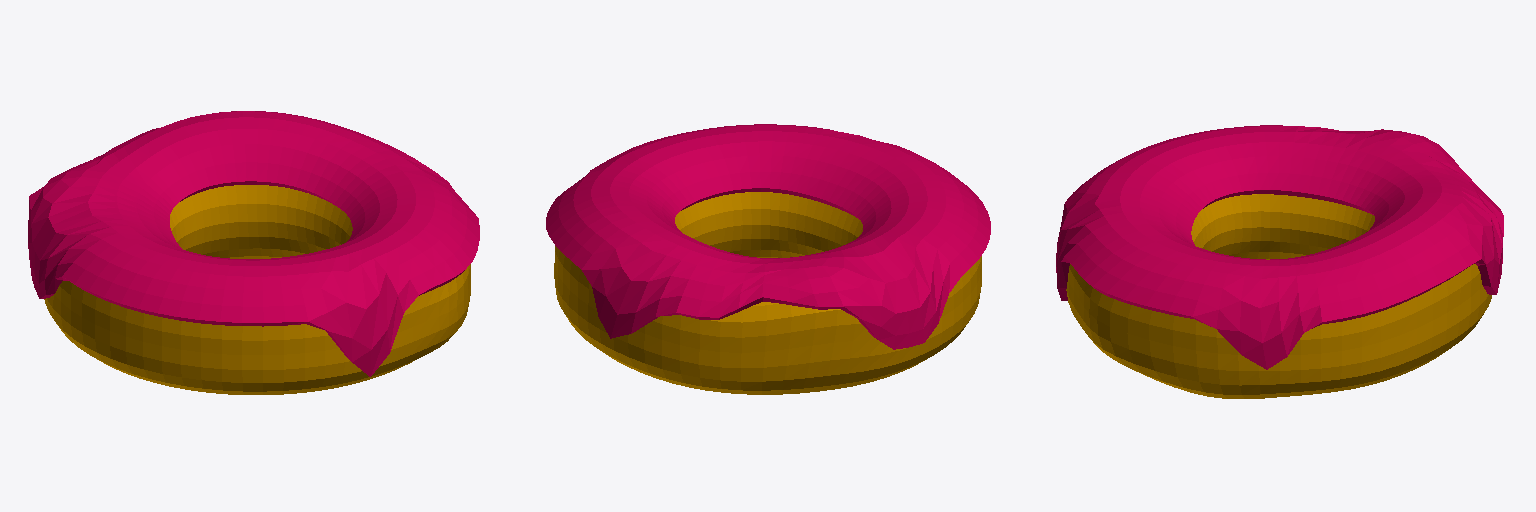
File: donut1.obj
The picture shows the model from 3 angles: view 1: azimuth 30°, elevation 25°; view 2: azimuth 150°, elevation 25°; view 3: azimuth 270°, elevation 25°; orthographic projection.
Visible parts, largest first — view 1: donut, icing; view 2: donut, icing; view 3: donut, icing.
Part boxes in pixels (x1,y1,x2,y2): donut: (28, 111, 479, 376); icing: (44, 185, 470, 394); donut: (546, 124, 990, 349); icing: (554, 192, 981, 394); donut: (1056, 125, 1503, 369); icing: (1066, 194, 1491, 398).
Size of the model in its own units: 2.84 by 0.9994 by 2.84.